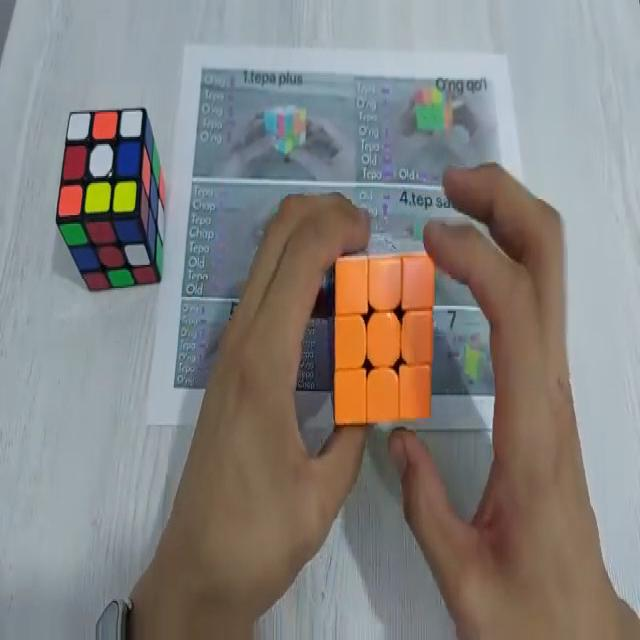Rub: (59, 103, 168, 290), (333, 252, 437, 427)
